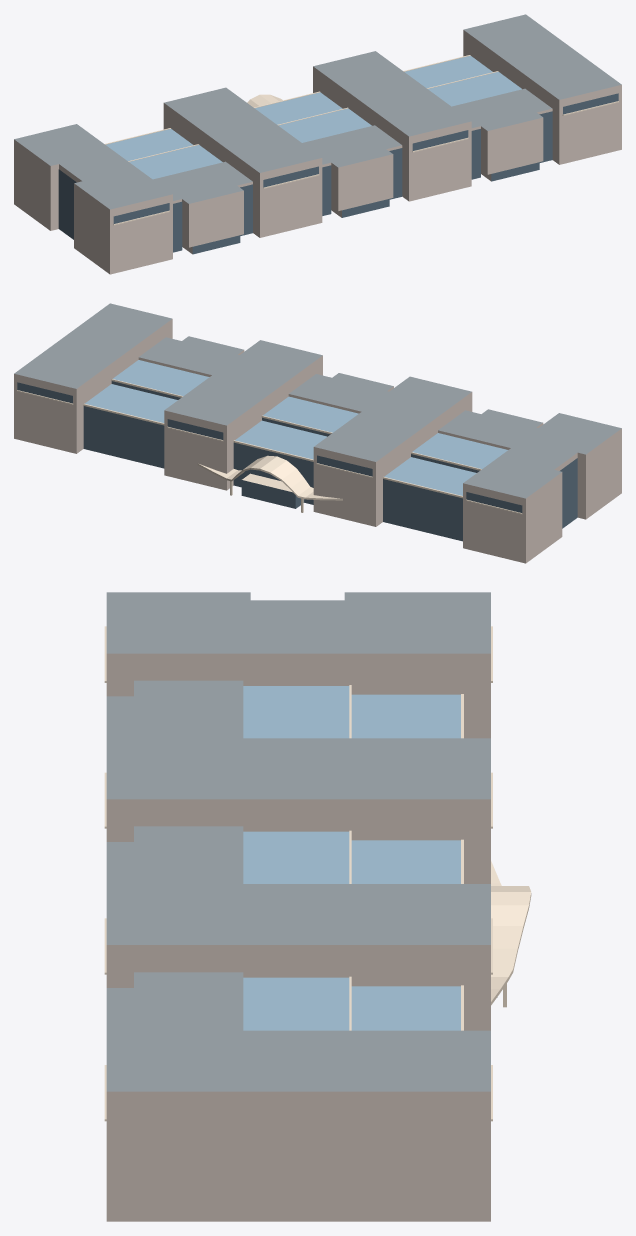
Rendered from dc-air-and-space.glb.
3 views of the same model, one above another, from view 1: azimuth 30°, elevation 25°; view 2: azimuth 150°, elevation 25°; view 3: azimuth 270°, elevation 25° (orthographic). The views are drawn at different scales.
Visible parts, largest first — view 1: National Air and Space Museum; view 2: National Air and Space Museum; view 3: National Air and Space Museum.
Boxes of the visible parts, left/top/right/bottom form: National Air and Space Museum: left=14, top=14, right=621, bottom=274; National Air and Space Museum: left=14, top=303, right=621, bottom=563; National Air and Space Museum: left=104, top=592, right=531, bottom=1221.
Bounding box in the file's own units: 208 × 25.3 × 75.25.
